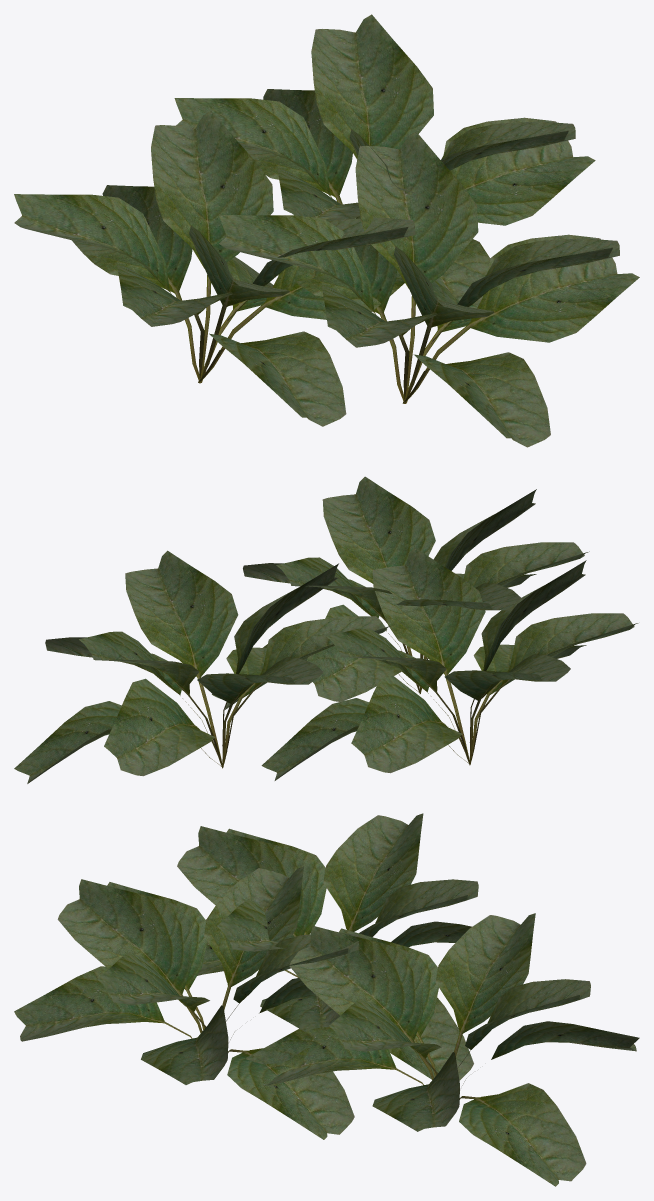
The model's file is STA20_plantsroom01.FBX.
The picture shows the model from 3 angles, top to bottom: view 1: azimuth 30°, elevation 25°; view 2: azimuth 150°, elevation 25°; view 3: azimuth 270°, elevation 25°; orthographic projection. The views are drawn at different scales.
Visible parts, largest first — view 1: STA20_plantsroom01; view 2: STA20_plantsroom01; view 3: STA20_plantsroom01.
Boxes of the visible parts, x1,y1,x2,y2 form: STA20_plantsroom01: (14,14,639,447); STA20_plantsroom01: (14,476,638,783); STA20_plantsroom01: (14,813,639,1186).
Bounding box in the file's own units: 3.33 × 1.14 × 3.69.
